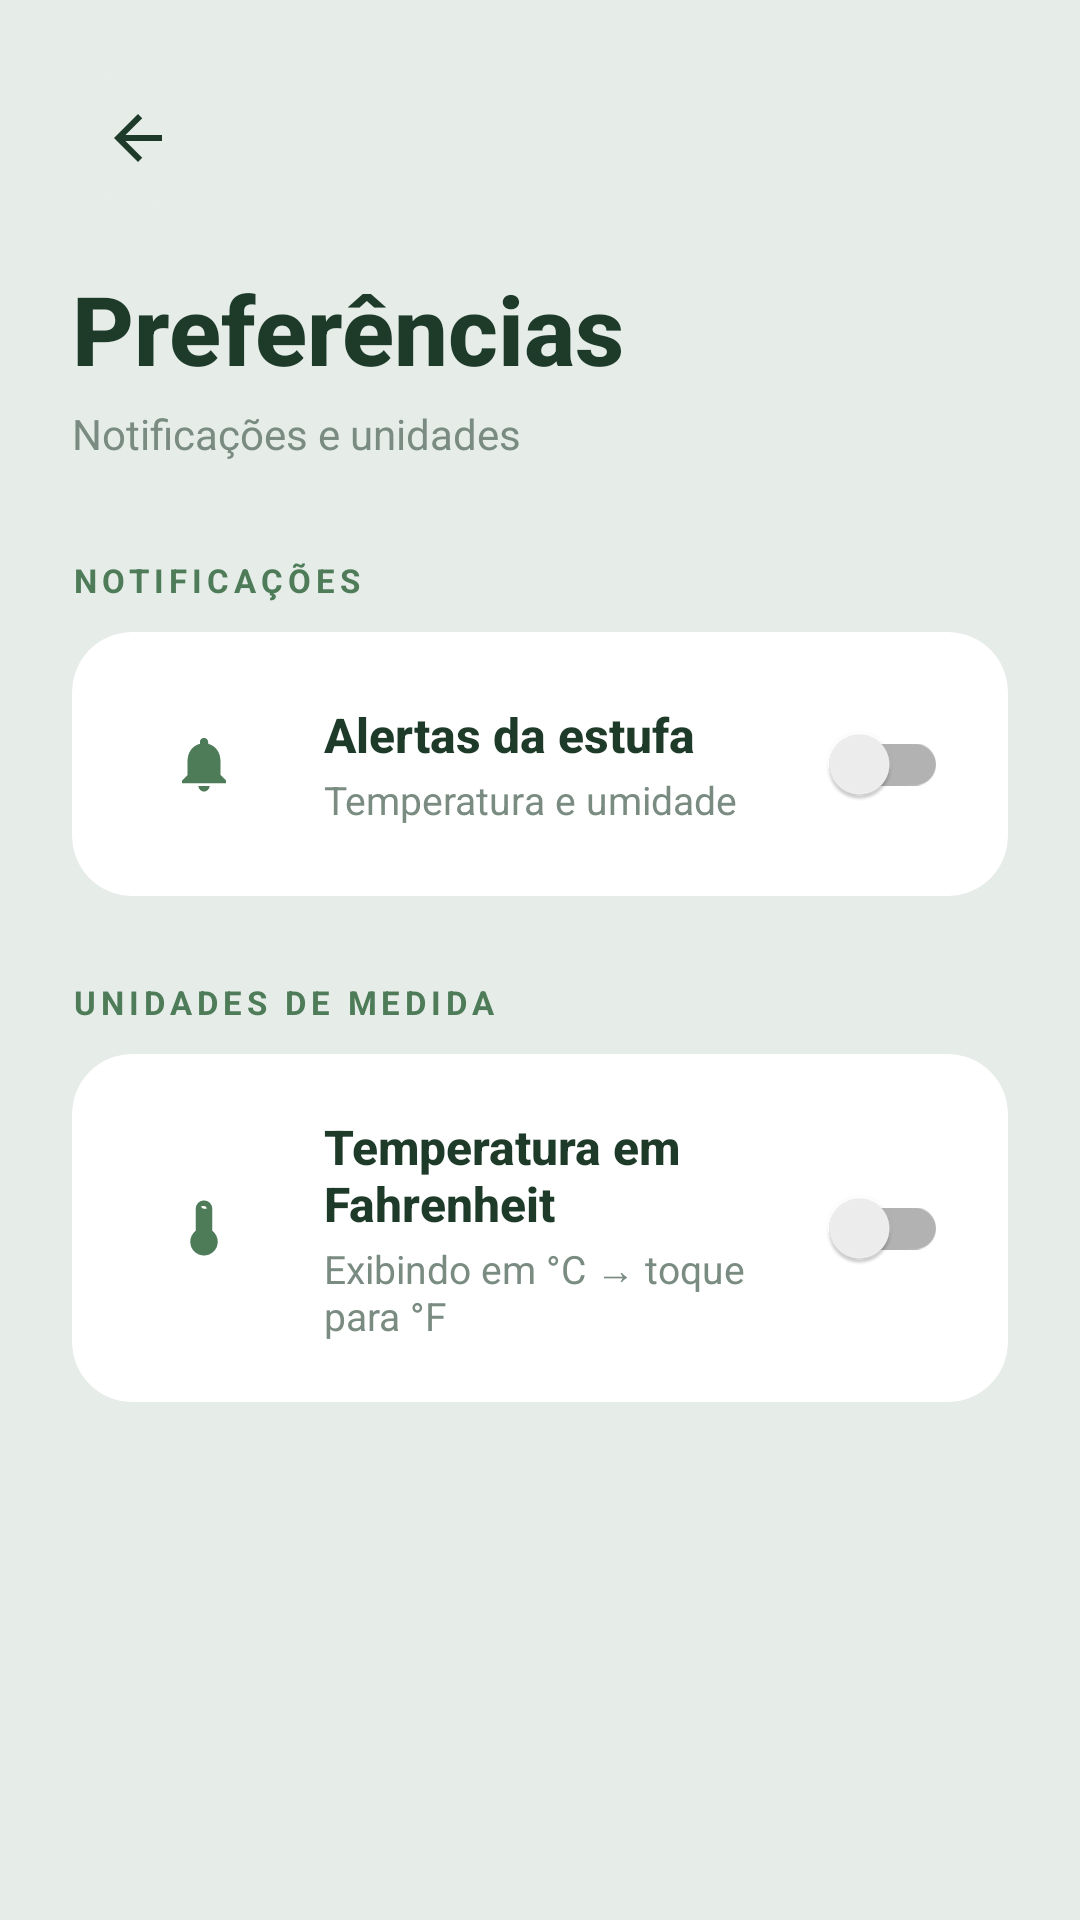

Where to tap for icons on this 1080x1920 app screen, as (x=x, y=y):
notification: (x=204, y=765)
thermometer: (x=204, y=1228)
Voltar: (x=138, y=138)
